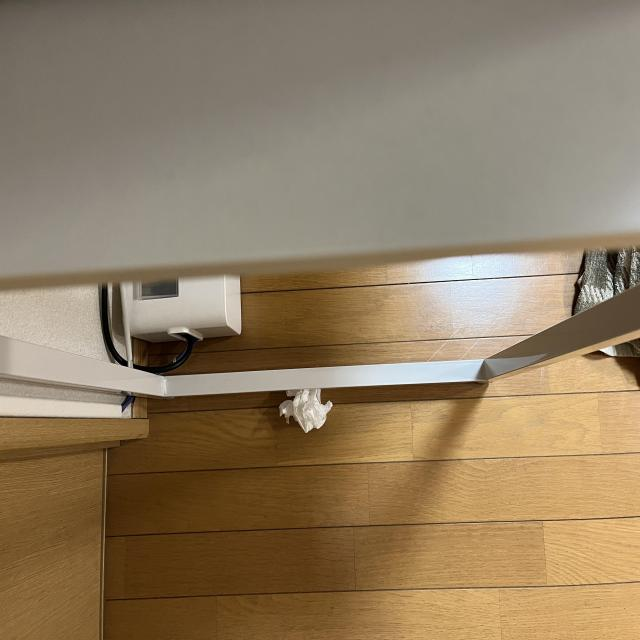衛生紙: (370, 290, 445, 323)
